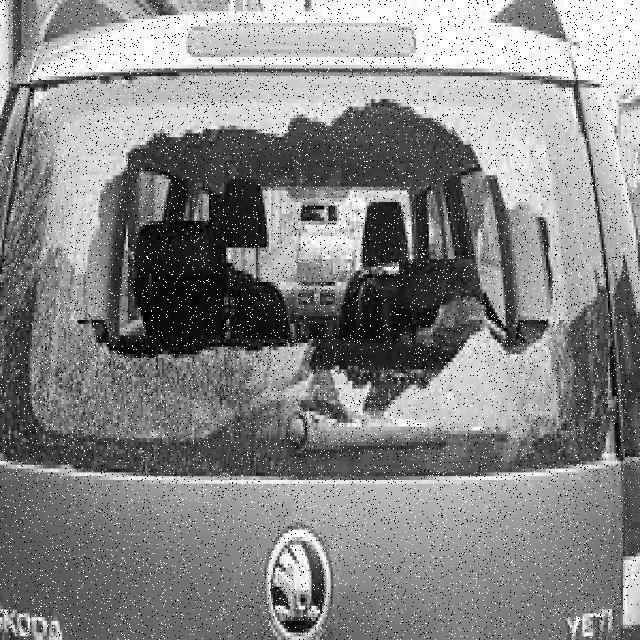Rear-windscreen-Damage: (19, 28, 610, 565)
